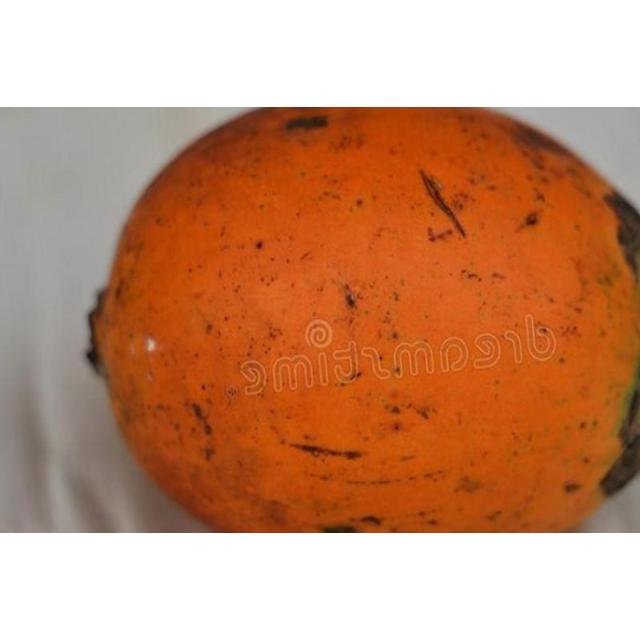good: (87, 107, 639, 533)
